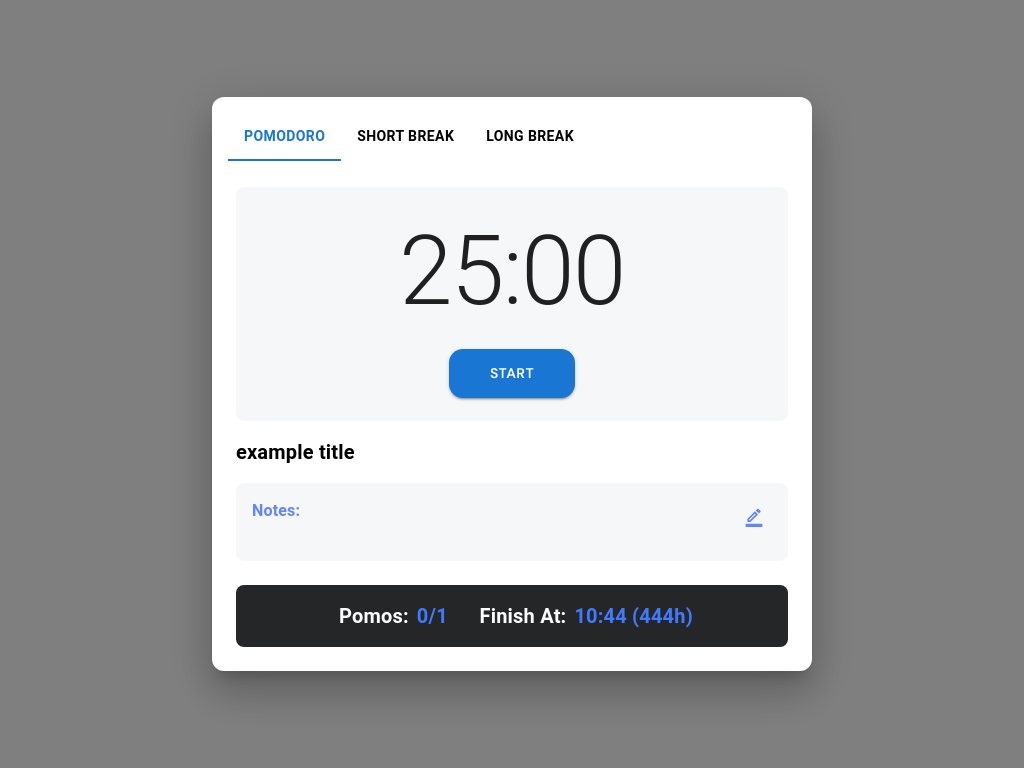
it: PomoPopup displays short time
Click the tab "Short Break". click: (406, 137)
box: [341,113,470,161]
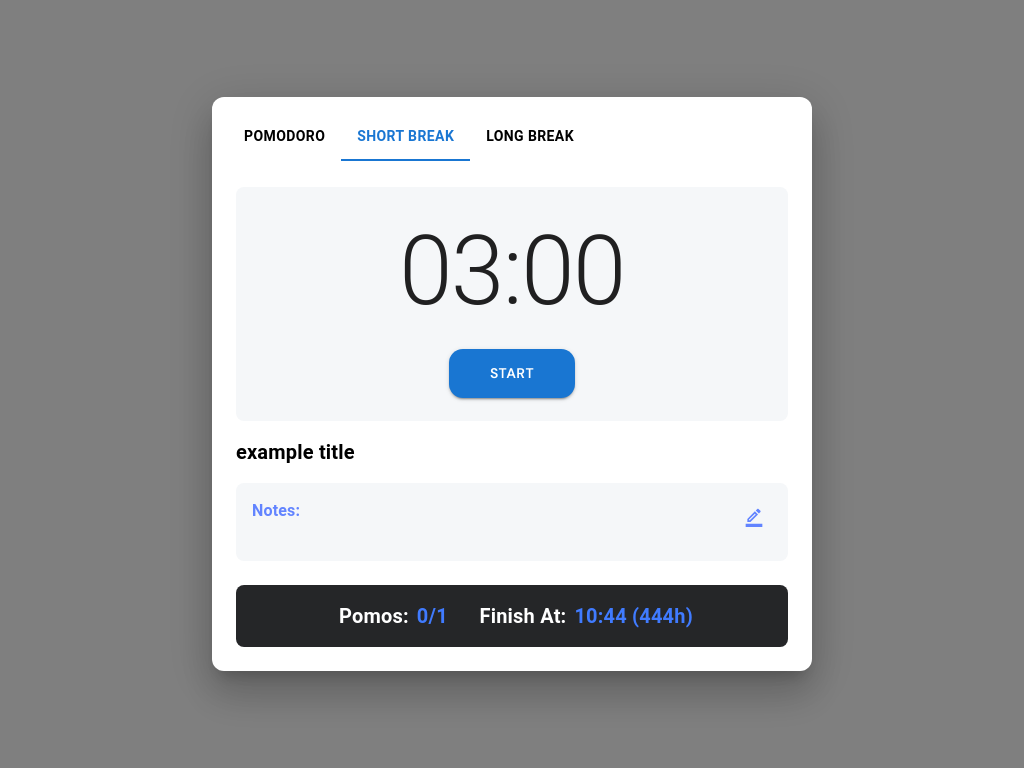
expect the heading "03:00" is shown: met, box [399,216,625,328]
